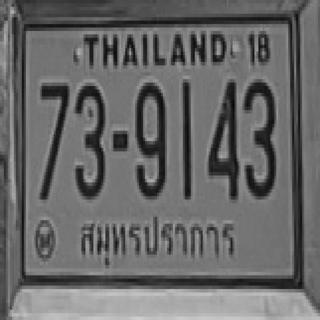N01: (181, 78, 191, 198)
N03: (243, 76, 274, 196), (74, 82, 103, 196)
N04: (207, 78, 236, 198)
N07: (39, 79, 69, 200)
N09: (135, 79, 165, 196)
P57: (75, 212, 239, 274)
